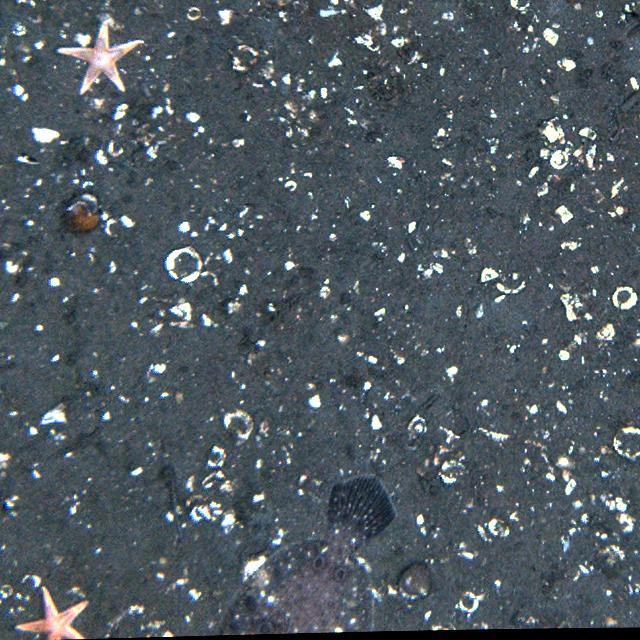flatfish: (216, 472, 402, 632)
